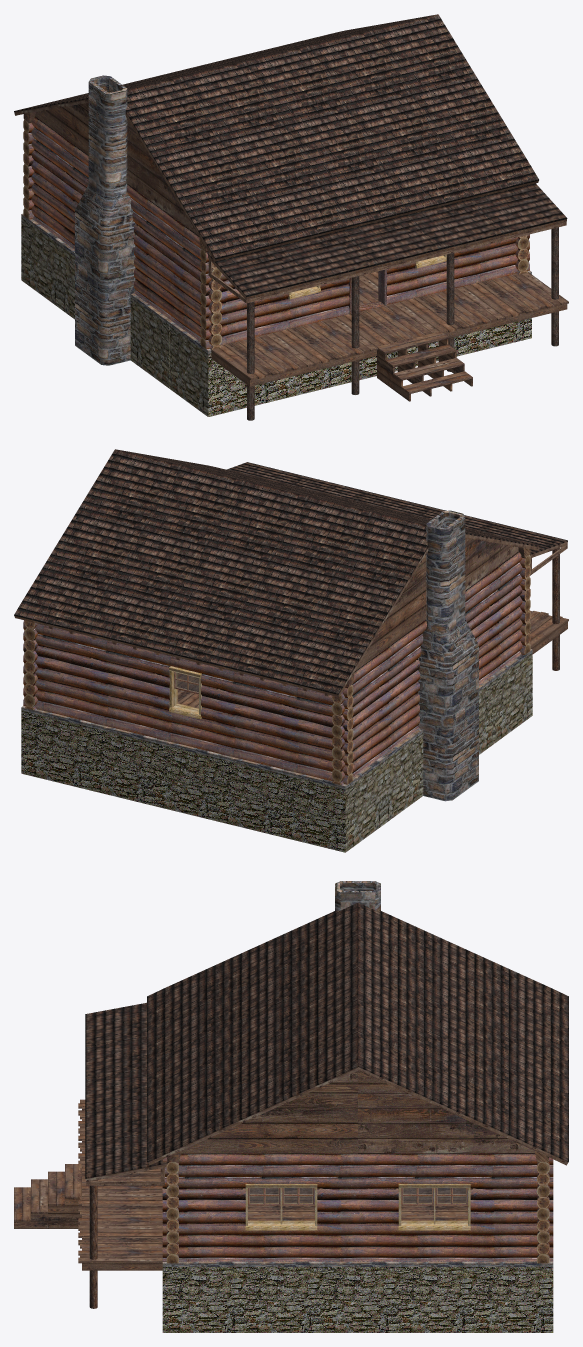
File: cabin-A.glb
3 views of the same model, one above another, from view 1: azimuth 30°, elevation 25°; view 2: azimuth 150°, elevation 25°; view 3: azimuth 270°, elevation 25° (orthographic). The views are drawn at different scales.
Parts seen in each view (by area): view 1: cabin-A; view 2: cabin-A; view 3: cabin-A.
Boxes of the visible parts, <box> form: cabin-A: <box>14,14,568,420</box>; cabin-A: <box>14,449,568,852</box>; cabin-A: <box>14,881,568,1332</box>.
Size of the model in its own units: 11.11 by 7.99 by 14.49.
15 materials, 15 textured.
